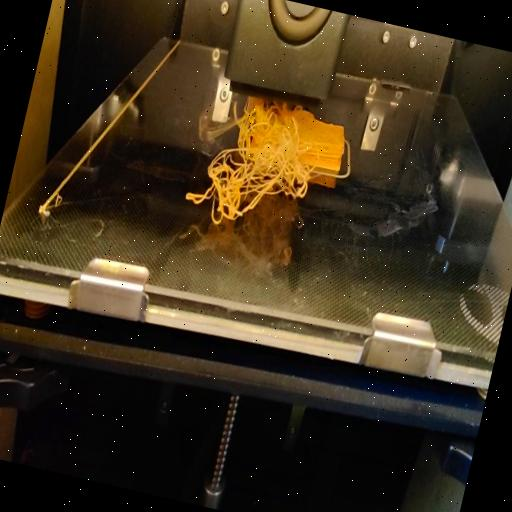spaghetti: (180, 86, 328, 248)
